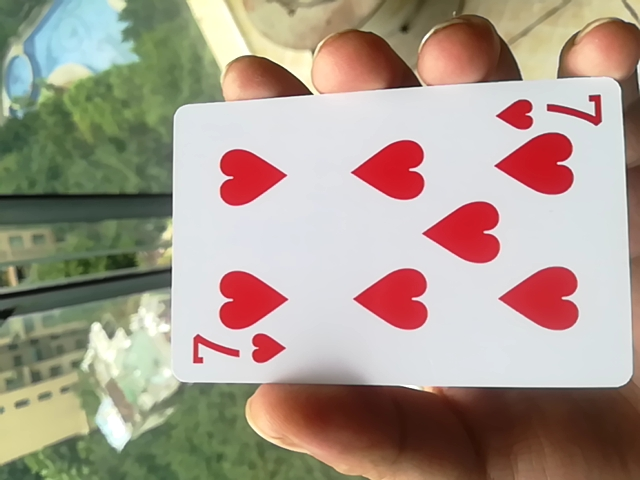hx 7: (167, 68, 626, 394)
